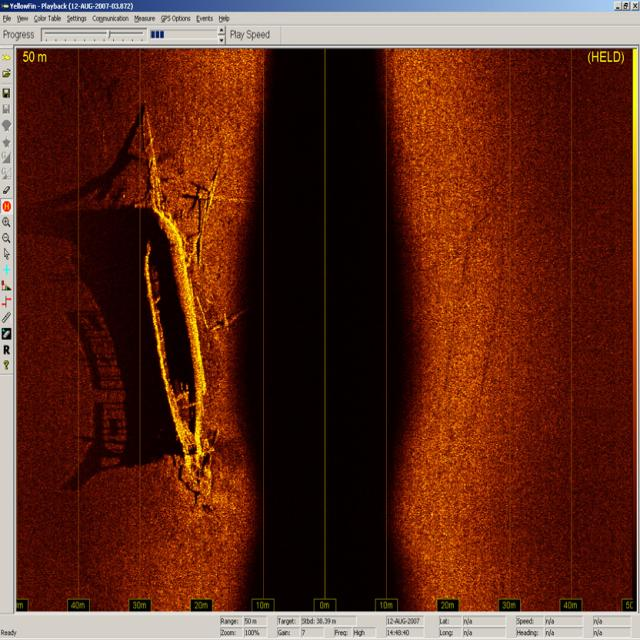ship: (124, 161, 221, 488)
